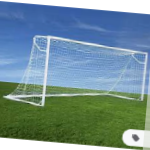goals: (3, 32, 149, 114)
